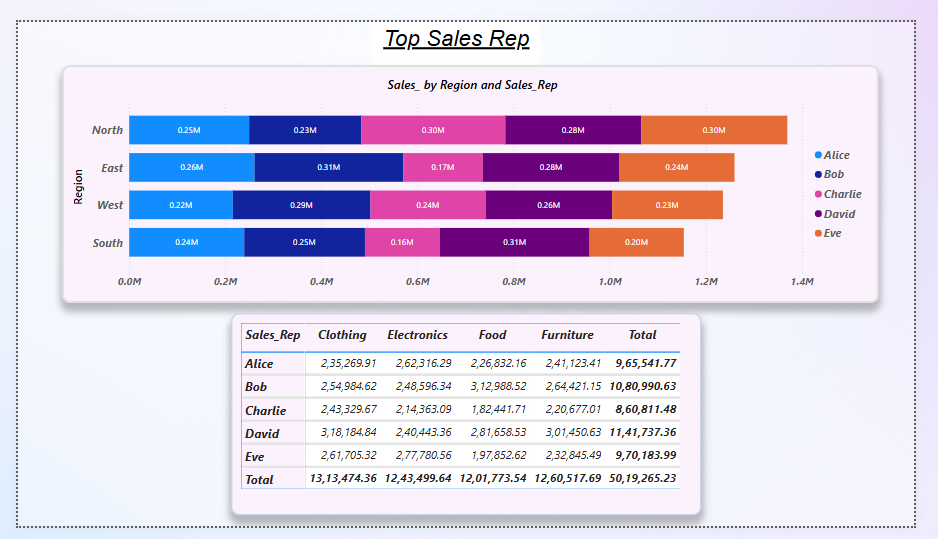

Layout of this report page (visuals, bound fields, positions):
{"tool":"powerbi","page":{"name":"Sales Rep Performance","canvas":[1280,720],"ordinal":2},"visuals":[{"type":"textbox","box":[506.1,0,241.1,62],"z":0},{"type":"barChart","title":"Sales_ by Region and Sales_Rep","fields":{"Category":["Sheet1.Region"],"Series":["Sheet1.Sales_Rep"],"Y":["Sum(Sheet1.Sales_Amount)"]},"box":[63.3,61.9,1167.1,340],"z":1000},{"type":"pivotTable","fields":{"Rows":["Sheet1.Sales_Rep"],"Values":["Sum(Sheet1.Sales_Amount)"],"Columns":["Sheet1.Product_Category"]},"box":[304.2,415.7,671.7,289],"z":2000}]}

Visuals, with their boxes in screenshot pixels (x1, y1, x2, y2), scaled from the page's 1280x720 canvas onto the 938x539 screenshot:
textbox: {"x1": 371, "y1": 0, "x2": 548, "y2": 46}
"Sales_ by Region and Sales_Rep" barChart: {"x1": 46, "y1": 46, "x2": 902, "y2": 301}
pivotTable - Sheet1.Sales_Rep x Sum(Sheet1.Sales_Amount): {"x1": 223, "y1": 311, "x2": 715, "y2": 528}
